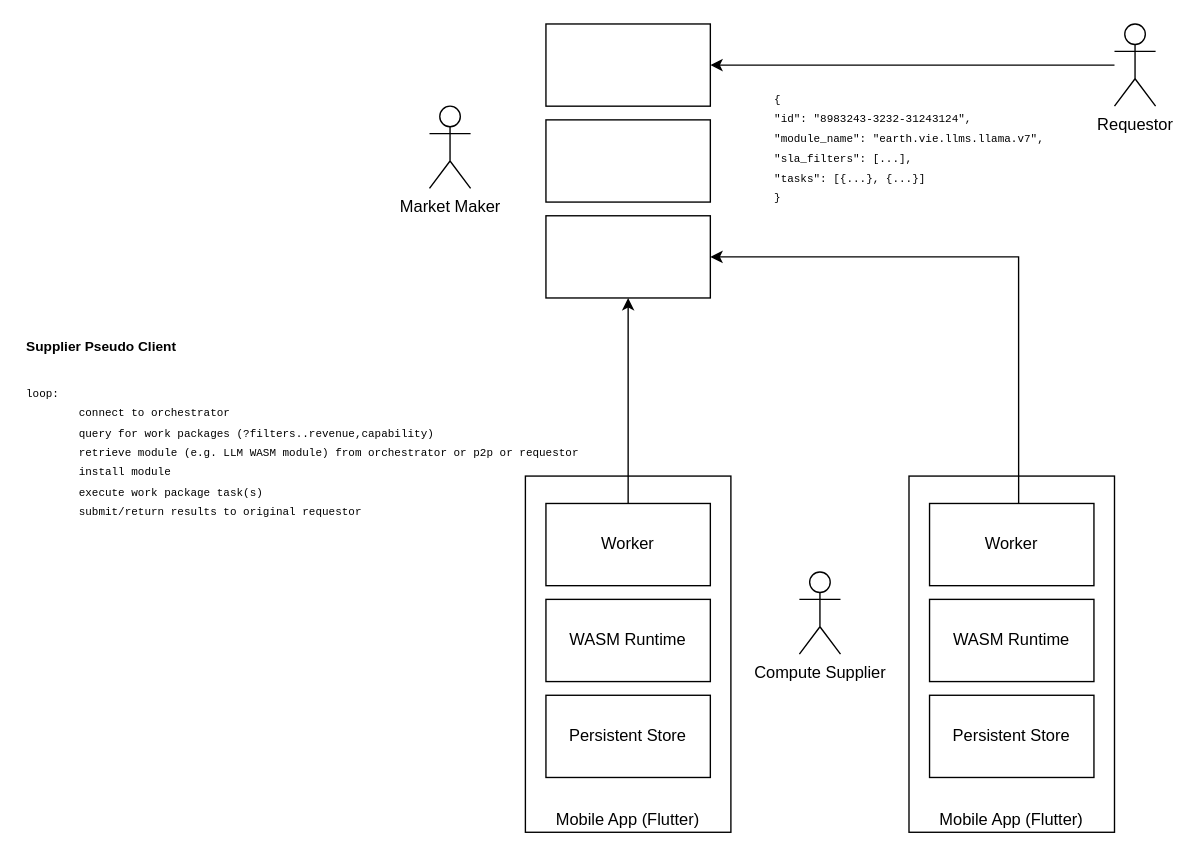
This 1196x856 diagram has some shape labels left out. The centre of each missing label's shape, as x and y in pixels:
"Orchestrator / Broker" belongs at (x=627, y=160).
"Requestor API" belongs at (x=627, y=64).
"Supplier API" belongs at (x=627, y=256).
